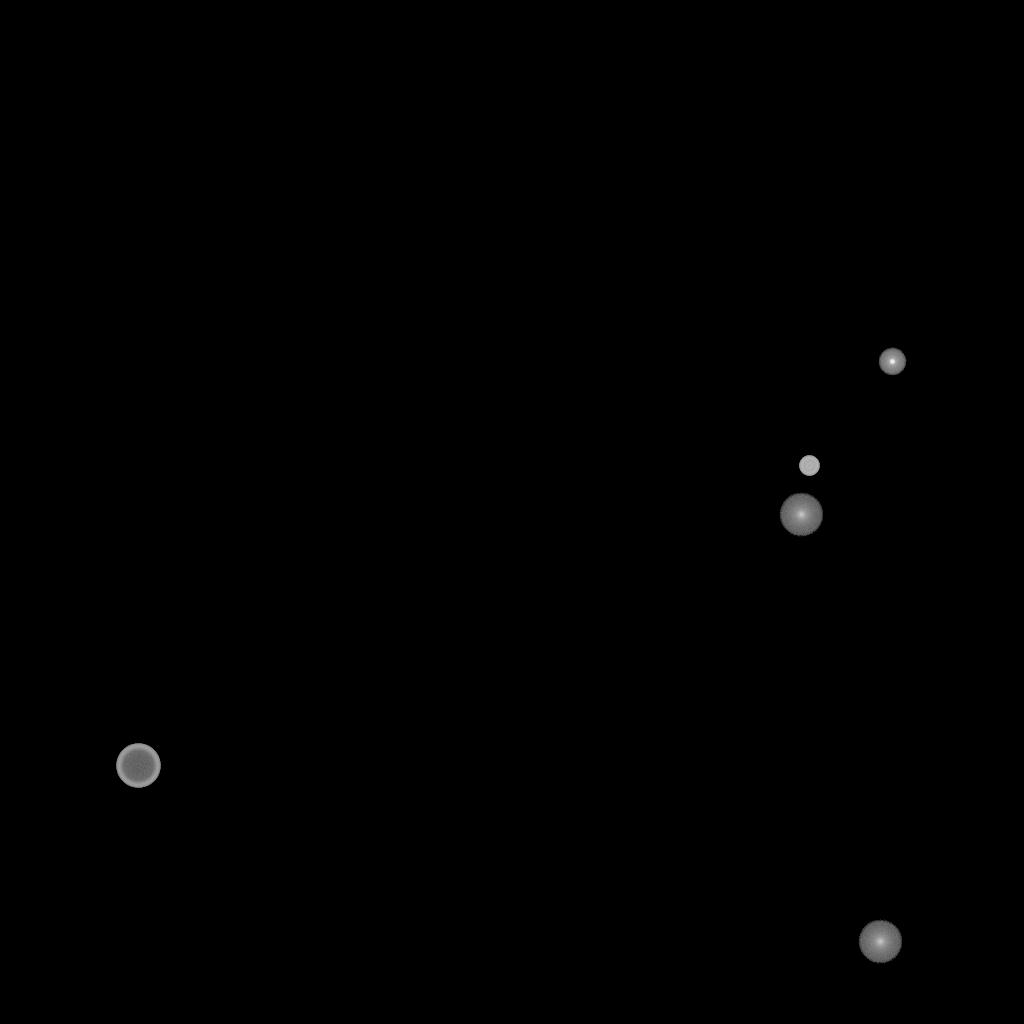depth:-10: (878, 348, 906, 376)
depth:-40: (799, 456, 819, 476)
depth:-70: (116, 744, 160, 788)
depth:10: (779, 493, 823, 537), (858, 920, 902, 964)
